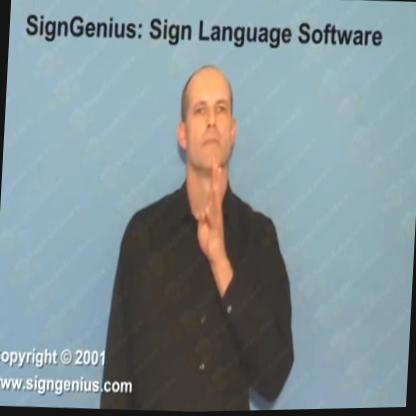Talk: (101, 55, 307, 414)
